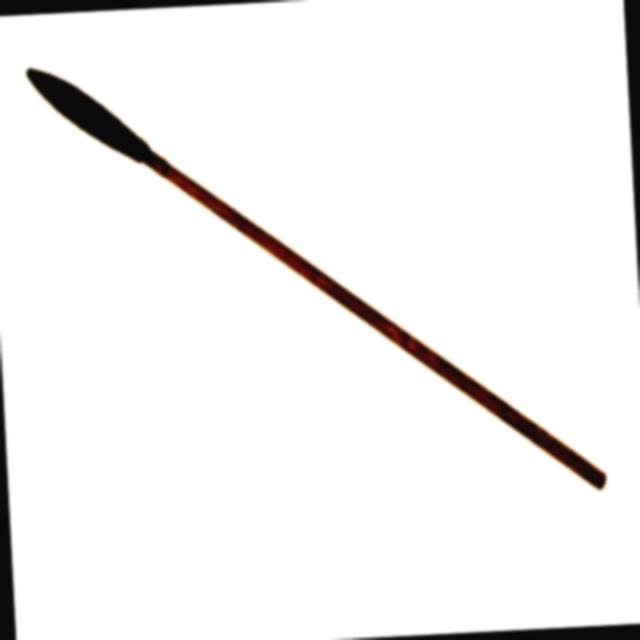spear: (9, 22, 620, 560)
